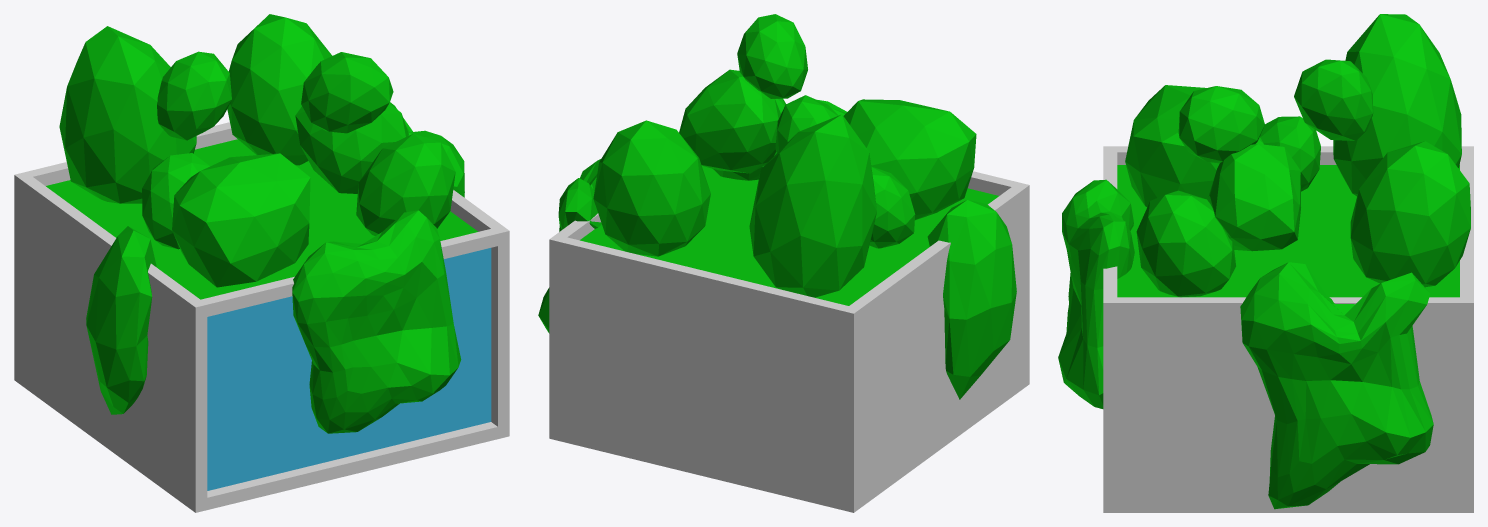
The model's file is Pisces Planter B.fbx.
3 renders of one model, left to right at view 1: azimuth 30°, elevation 25°; view 2: azimuth 150°, elevation 25°; view 3: azimuth 270°, elevation 25°, orthographic. The views are drawn at different scales.
Parts seen in each view (by area): view 1: Cube; view 2: Cube; view 3: Cube.
Boxes of the visible parts, x1,y1,x2,y2 form: Cube: (14,14,509,512); Cube: (538,14,1029,512); Cube: (1058,14,1473,512).
Size of the model in its own units: 514 by 444 by 449.
